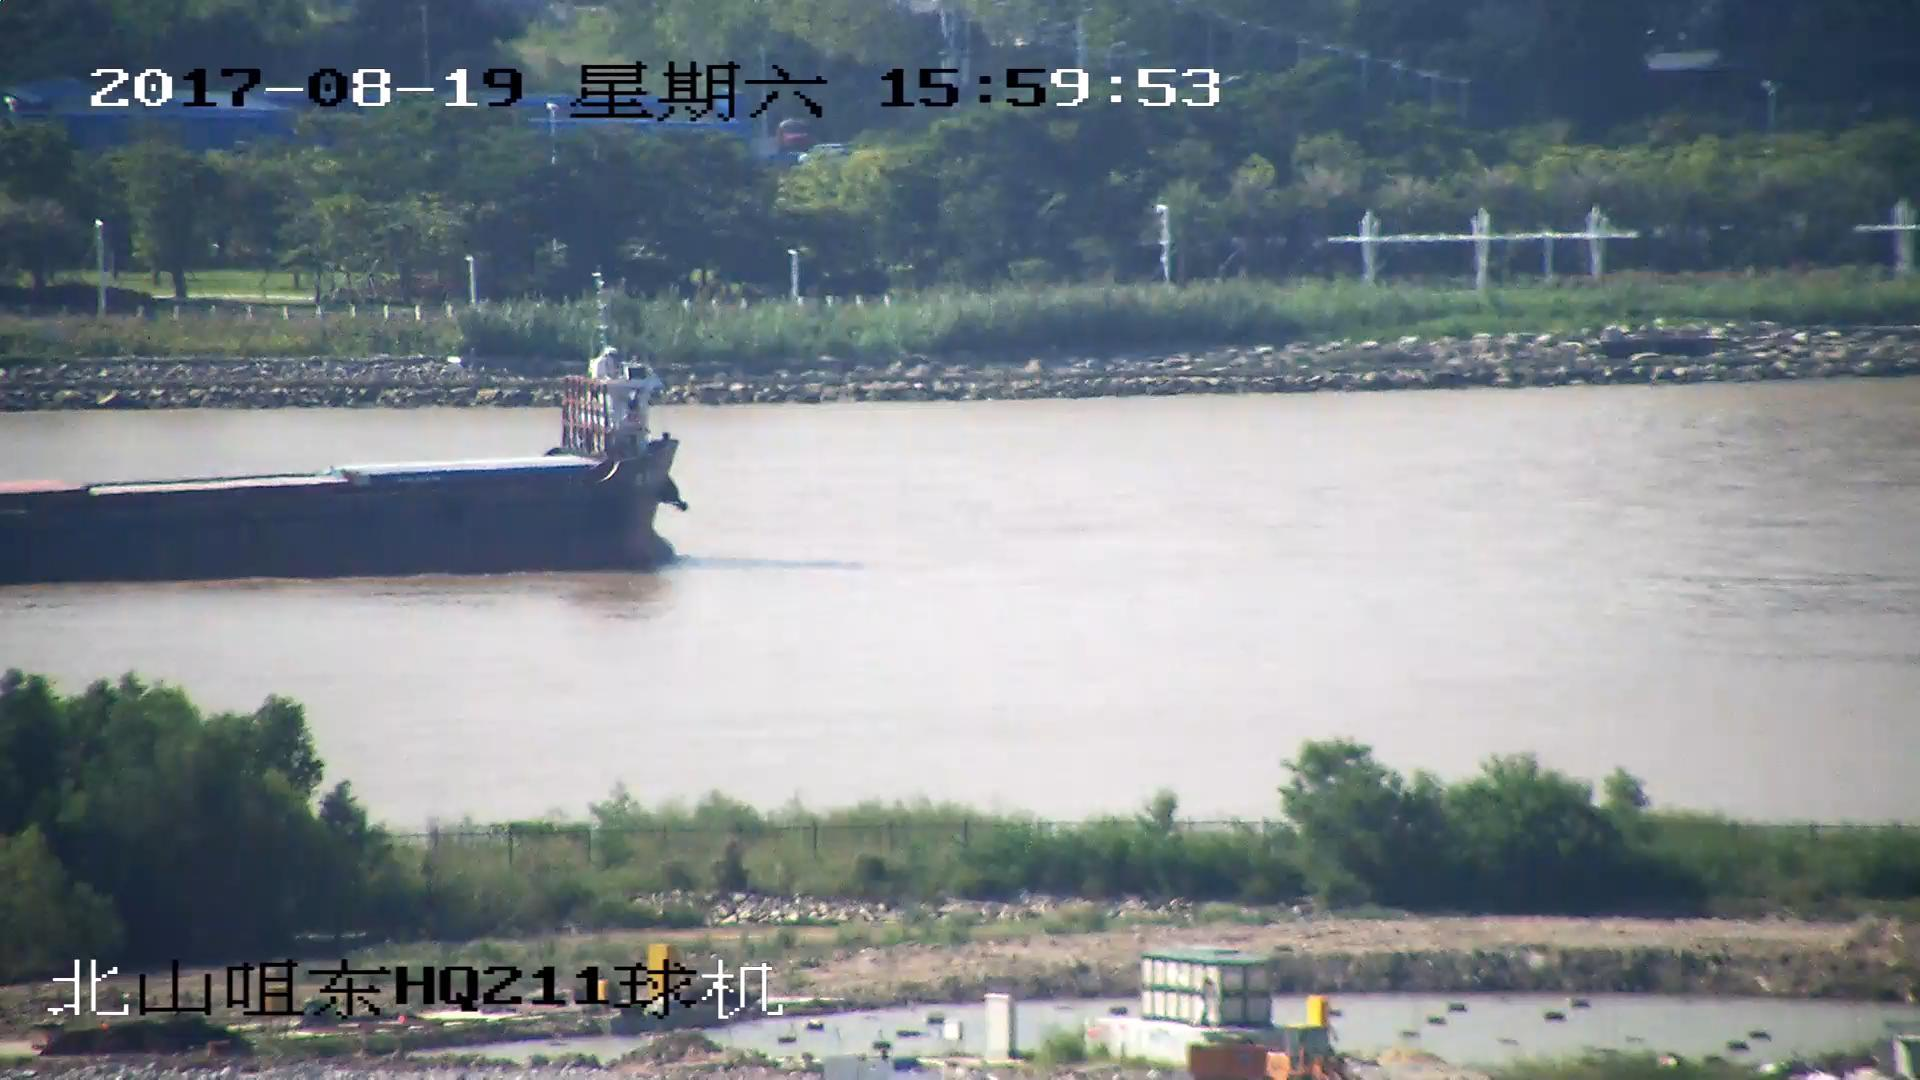Ship: (3, 330, 695, 580)
